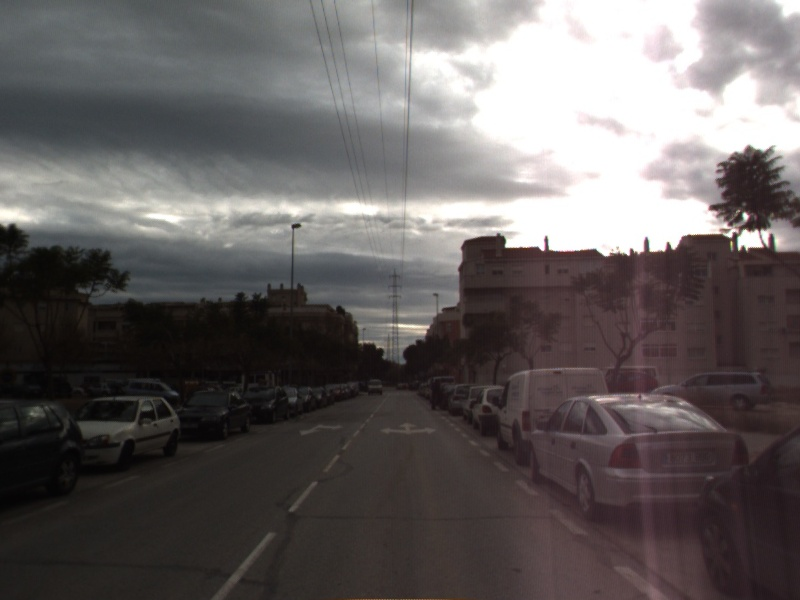STRAIGHT_LEFT_RIGHT: (377, 420, 439, 437)
